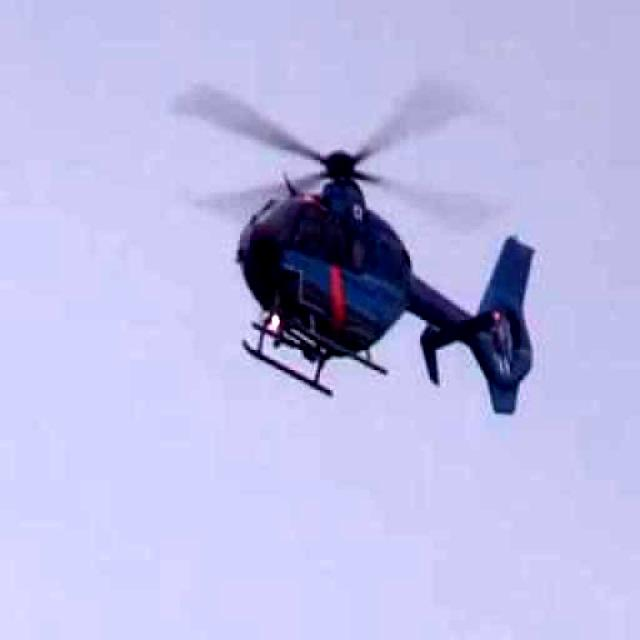drone: (144, 15, 602, 451)
